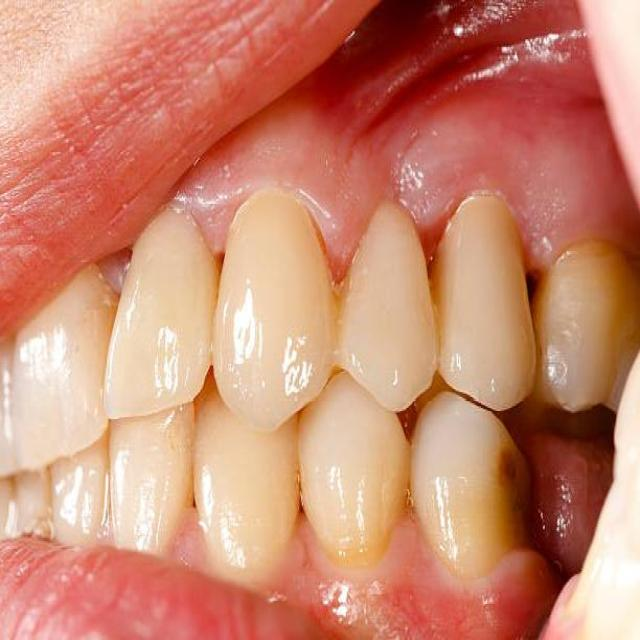caries: (484, 438, 537, 537)
